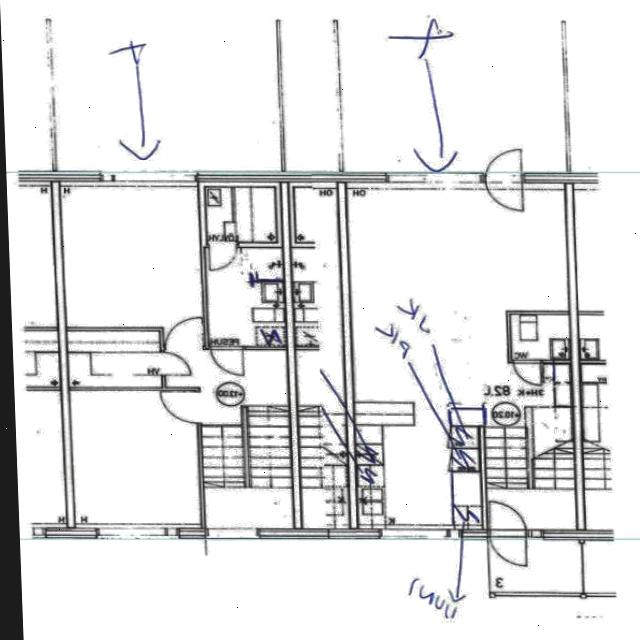room: (62, 186, 205, 346), (69, 387, 201, 531), (205, 245, 287, 350), (67, 331, 162, 388), (204, 186, 278, 242), (510, 314, 571, 360)
